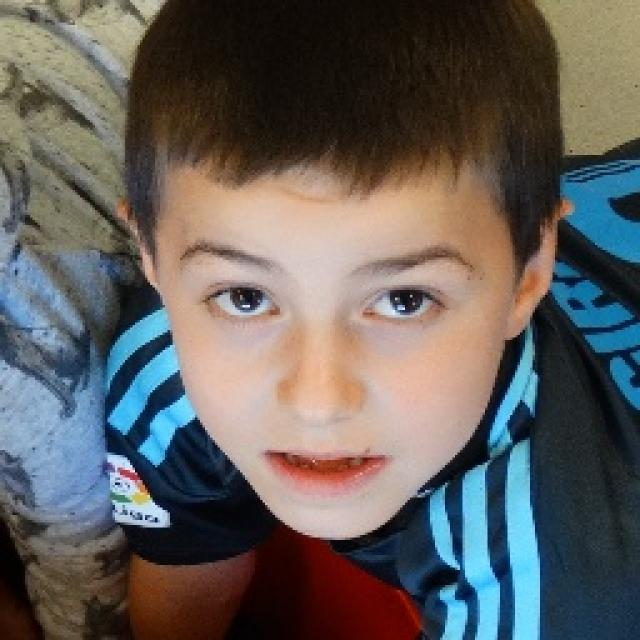earlobe: (500, 196, 574, 342)
